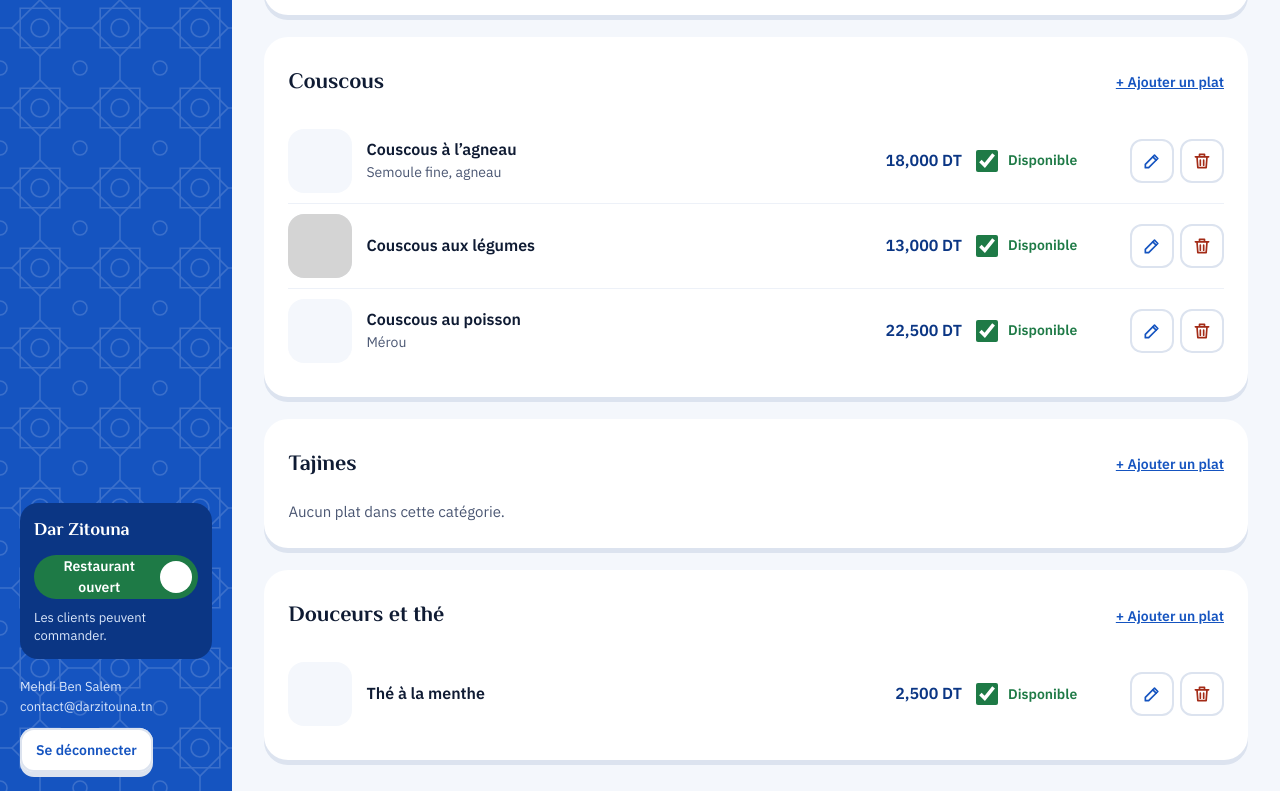
Test case: plats du menu (US10) › supprime un plat après confirmation
(page scrolled)
What coordinates should you click on to do the following:
click the button named "Supprimer Thé à la menthe"
I would click on:
 (1202, 694)
Its box is x1=1180 y1=672 x2=1224 y2=716.
(page scrolled)
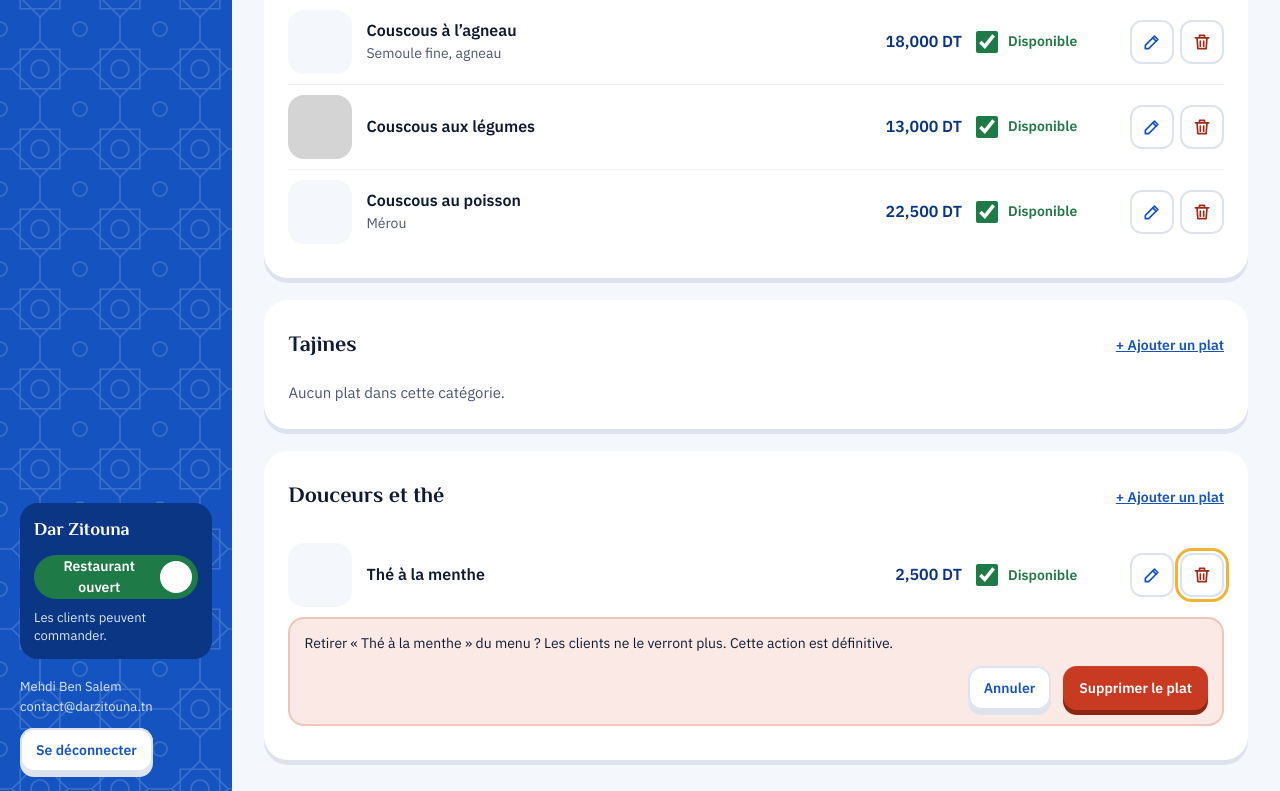
What coordinates should you click on to do the following:
click the button "Supprimer le plat"
I would click on:
 (1136, 688)
Its box is x1=1063 y1=666 x2=1208 y2=710.
(page scrolled)
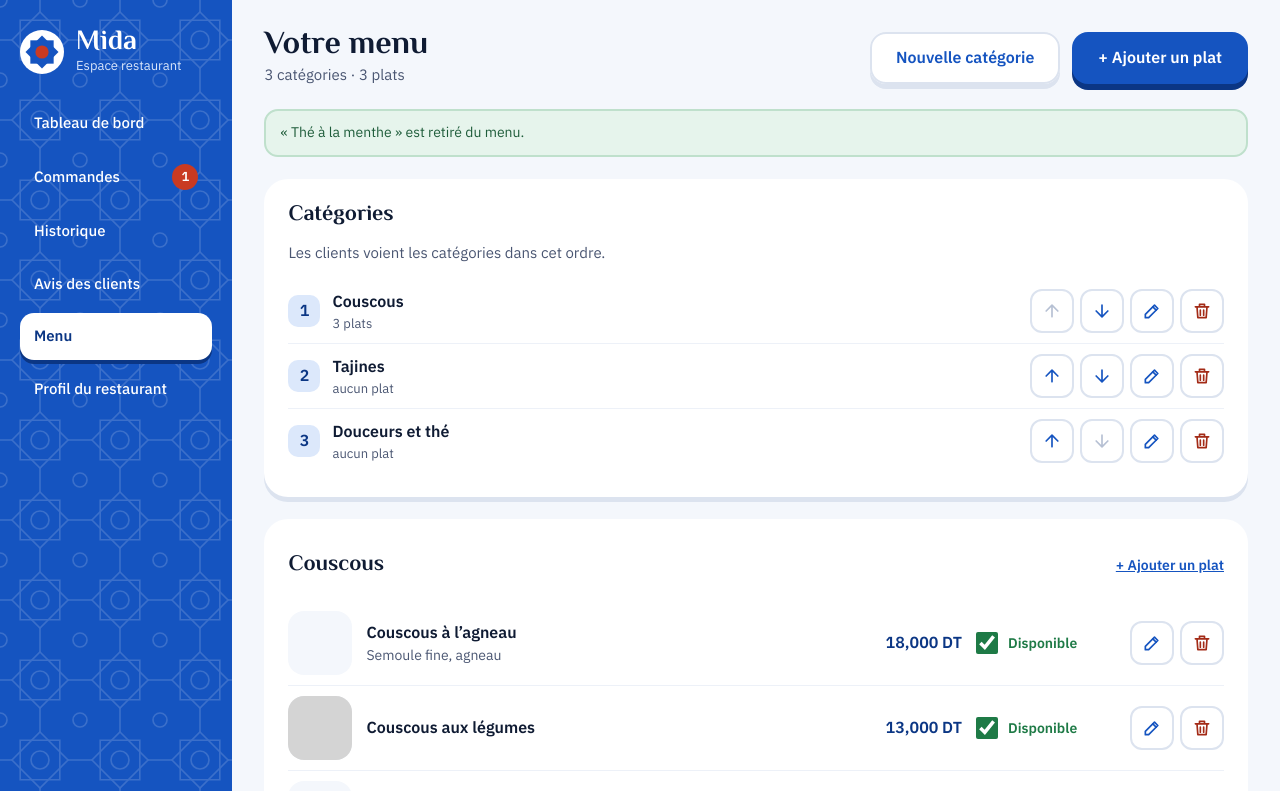
Expected: the text "« Thé à la menthe » est retiré du menu." is shown, x1=264 y1=109 x2=1248 y2=157
